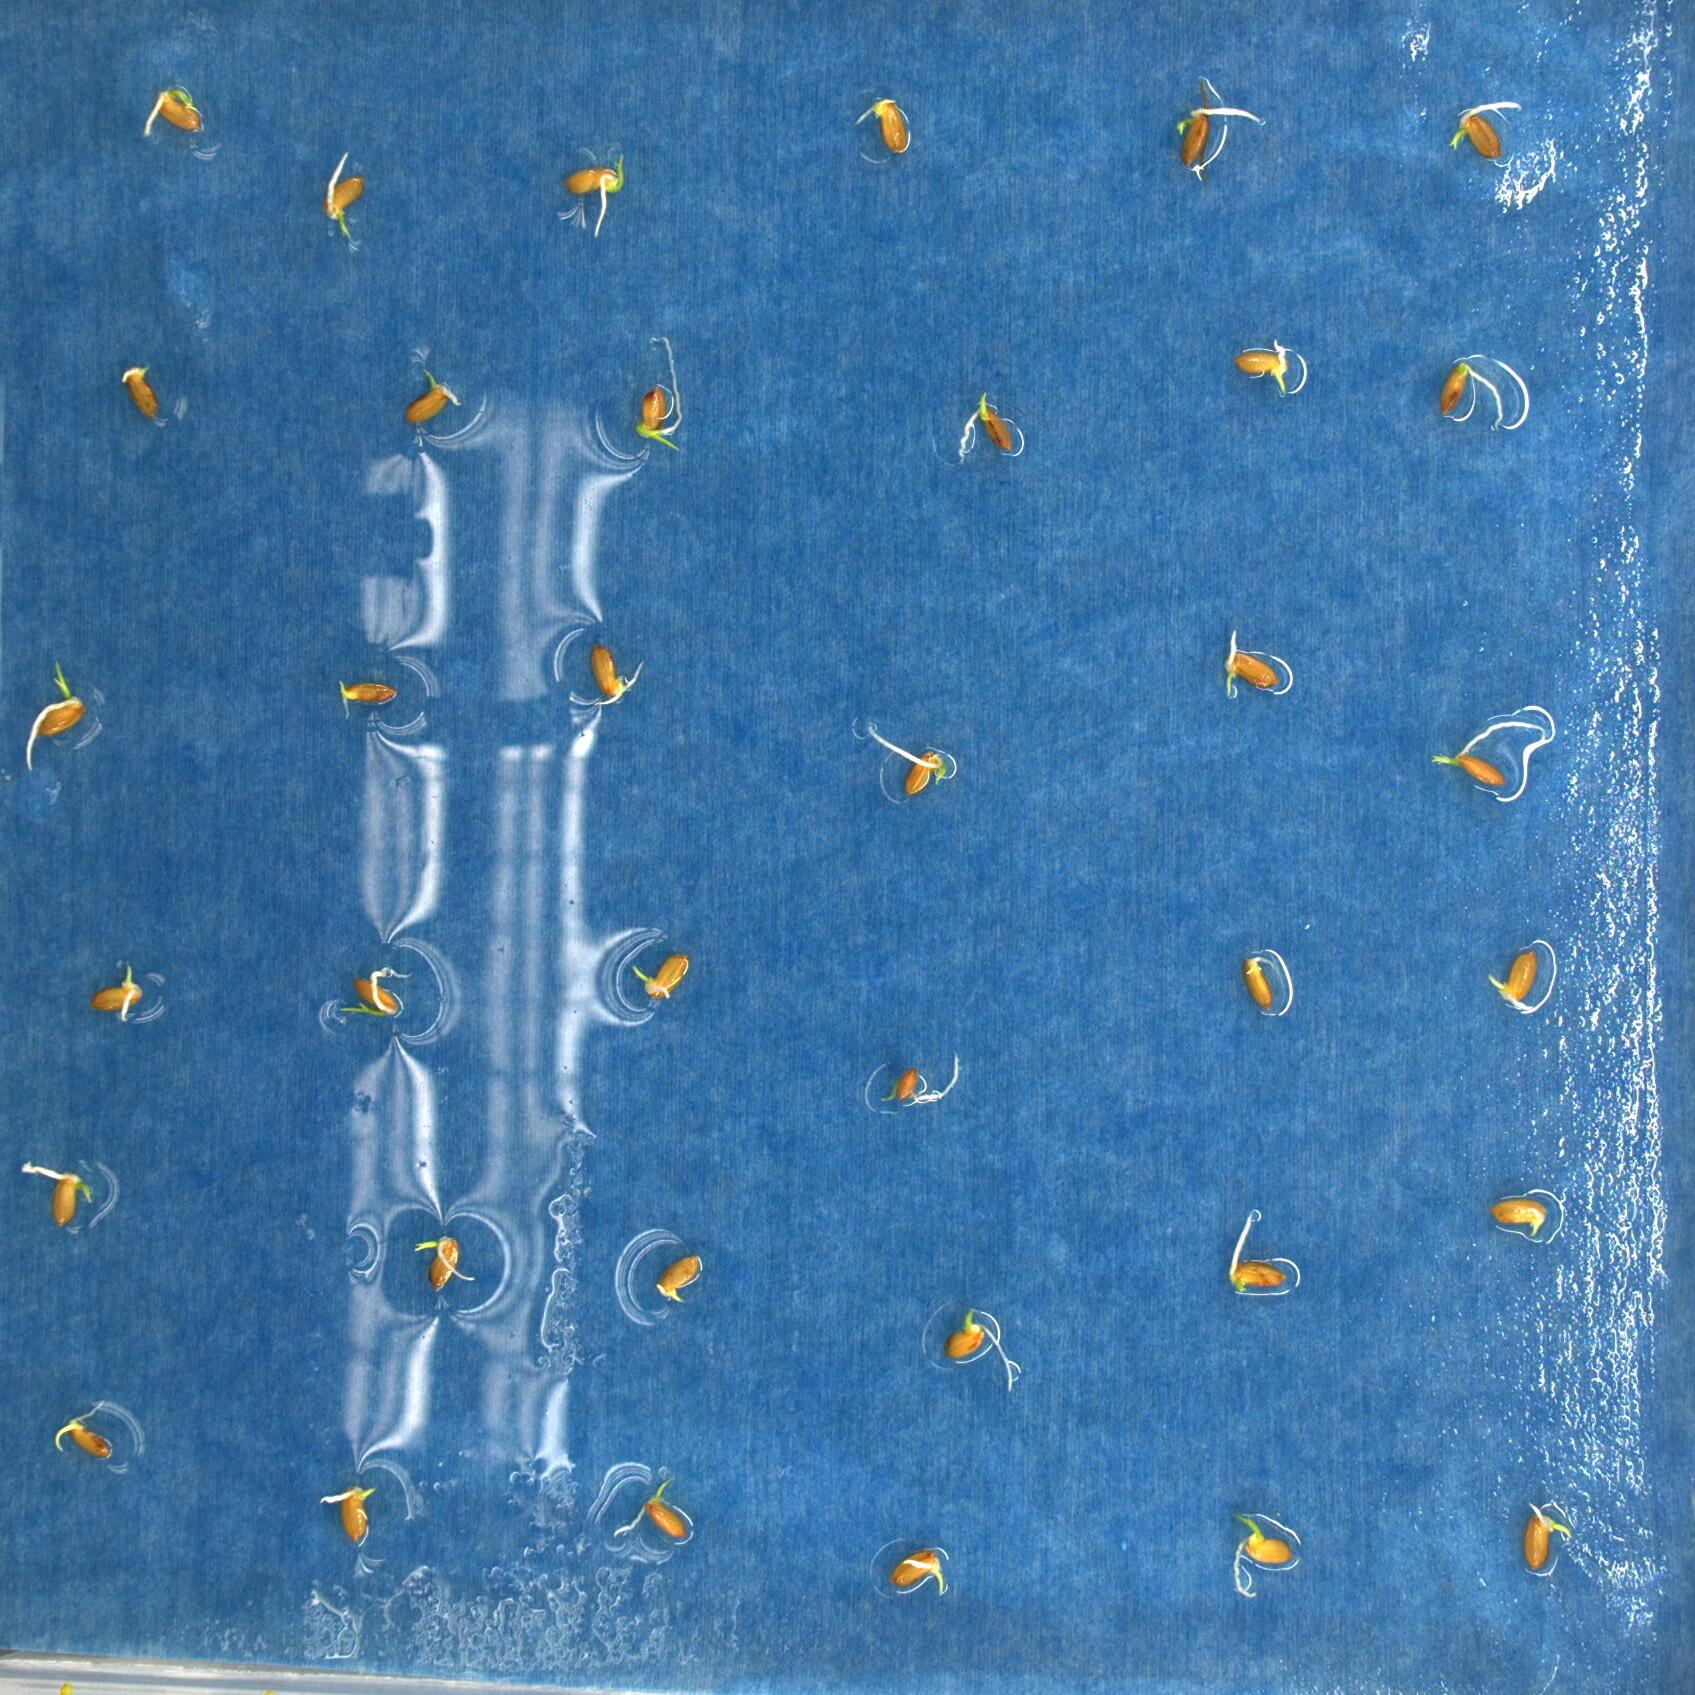not sprout: (1423, 733, 1535, 812), (1173, 96, 1262, 180), (1220, 1203, 1295, 1301), (602, 1475, 700, 1548), (320, 138, 379, 255), (20, 1153, 96, 1239), (1509, 1499, 1583, 1586), (869, 722, 947, 799), (948, 1302, 1015, 1392), (1478, 936, 1554, 1014), (570, 638, 646, 714), (948, 385, 1024, 459), (1215, 629, 1288, 702), (879, 1054, 965, 1111), (619, 947, 698, 1009), (846, 88, 914, 158), (1434, 357, 1504, 424), (886, 1540, 958, 1603), (1222, 335, 1298, 393), (315, 1485, 383, 1548), (649, 1240, 709, 1310), (1237, 944, 1291, 1020), (1489, 1184, 1554, 1245), (404, 365, 464, 428), (92, 965, 151, 1031), (138, 85, 206, 140), (47, 1419, 116, 1468), (118, 355, 166, 425), (329, 674, 394, 725)
sprout: (1218, 1503, 1304, 1610), (17, 658, 96, 771), (1444, 92, 1534, 172), (560, 143, 633, 237), (633, 335, 681, 452), (337, 958, 413, 1024), (408, 1232, 477, 1301)
